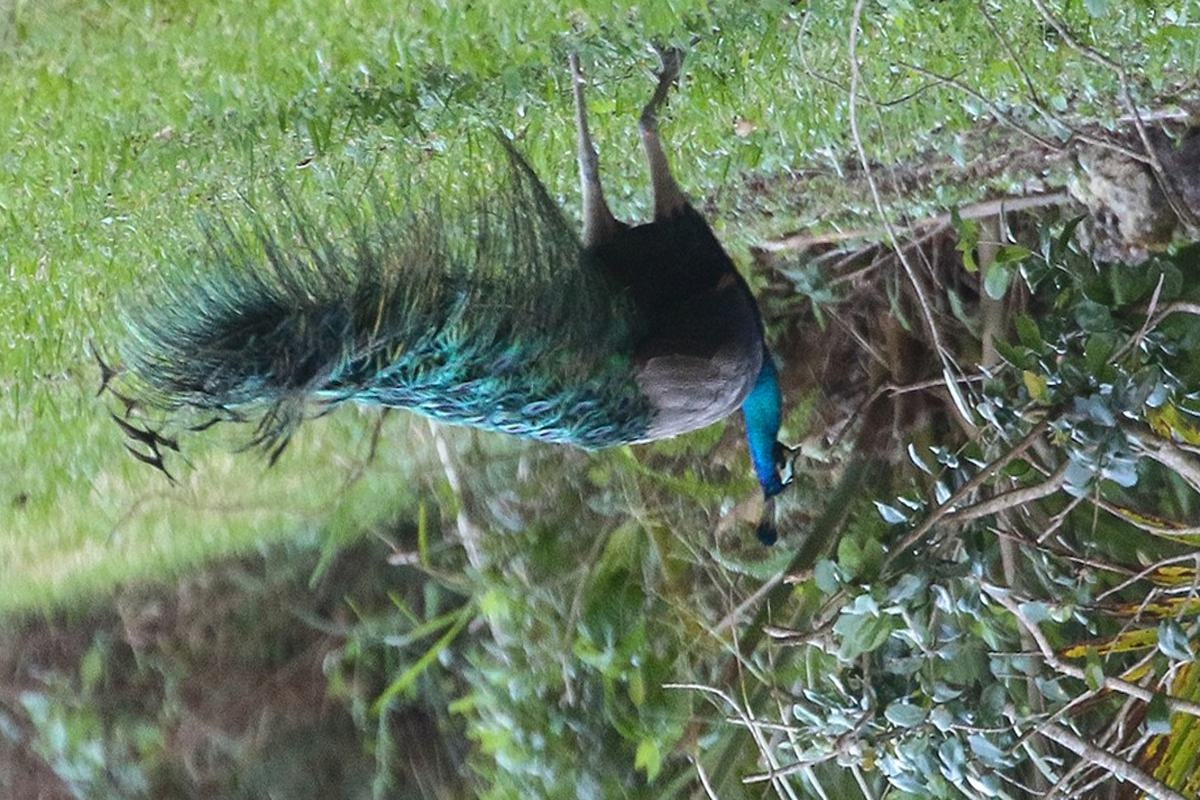peacock: (146, 62, 817, 517)
